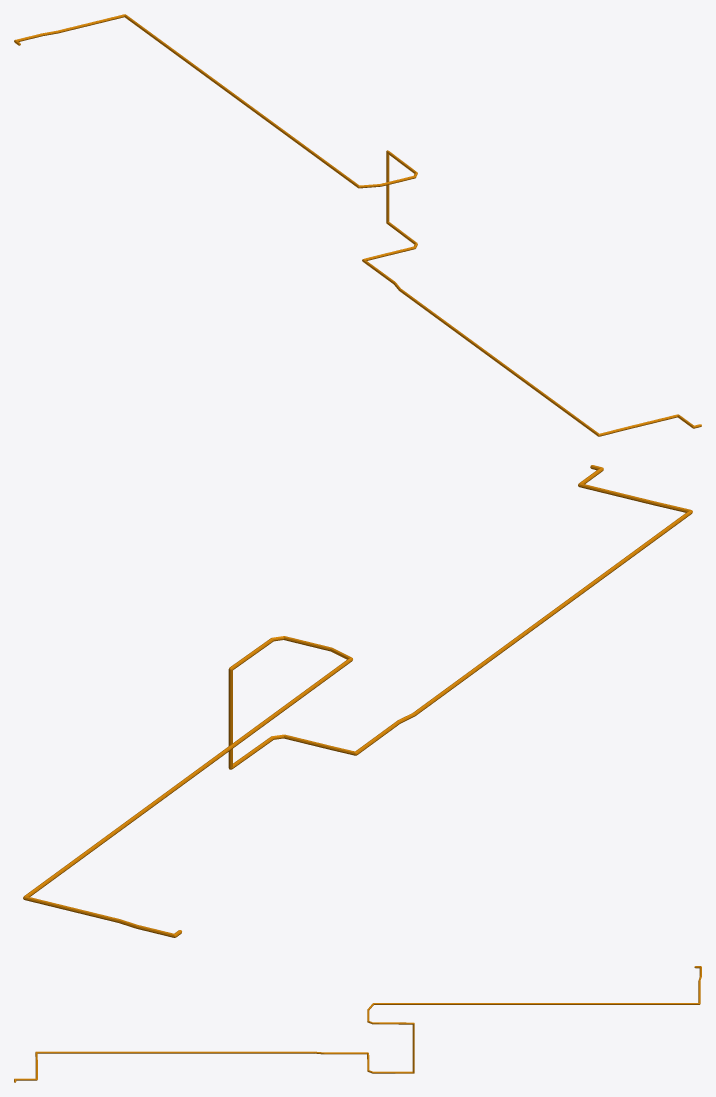
3 renders of one model, top to bottom at view 1: azimuth 30°, elevation 25°; view 2: azimuth 150°, elevation 25°; view 3: azimuth 270°, elevation 25°, orthographic. The views are drawn at different scales.
Bounding box in the file's own units: 1445 × 520 × 6331.
